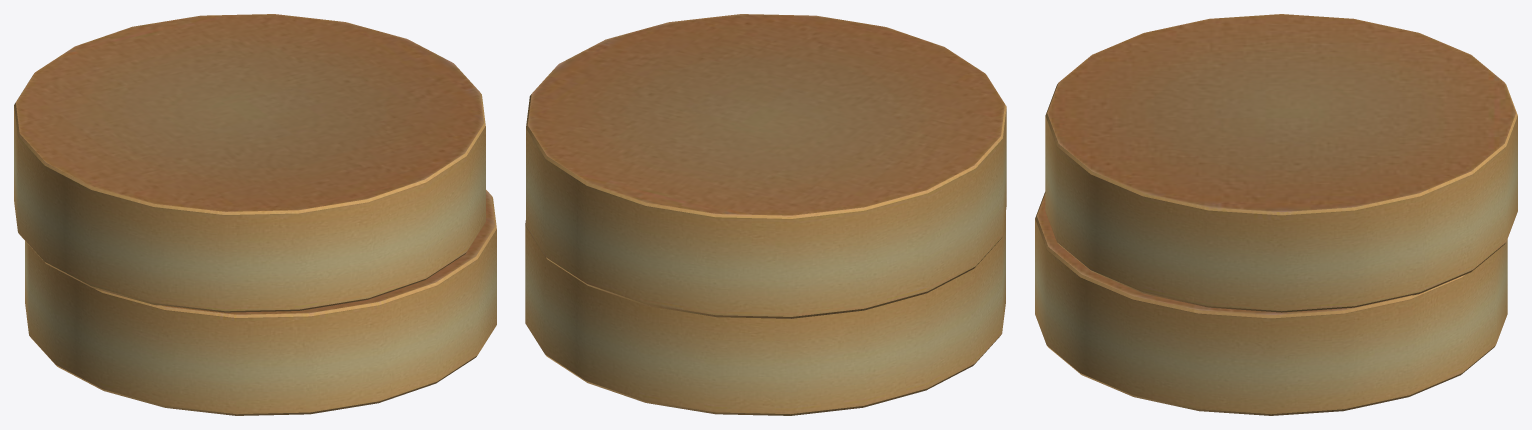
The model's file is cookedSponges.gltf.
The picture shows the model from 3 angles, left to right: view 1: azimuth 30°, elevation 25°; view 2: azimuth 150°, elevation 25°; view 3: azimuth 270°, elevation 25°; orthographic projection. The views are drawn at different scales.
Visible parts, largest first — view 1: JamCakeBottomLayer.001; view 2: JamCakeBottomLayer.001; view 3: JamCakeBottomLayer.001.
Part boxes in pixels (bbox=[...]): JamCakeBottomLayer.001: bbox=[14, 14, 496, 415]; JamCakeBottomLayer.001: bbox=[525, 14, 1006, 415]; JamCakeBottomLayer.001: bbox=[1035, 14, 1517, 415].
Size of the model in its own units: 0.2693 by 0.1246 by 0.2713.
1 material, 1 textured.
